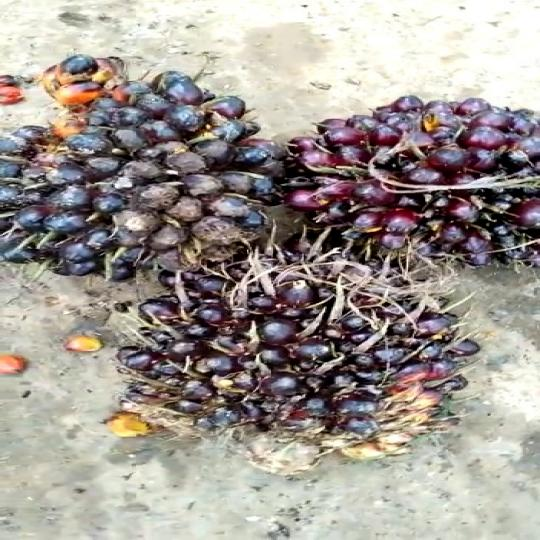kurang masak: (93, 231, 498, 473), (0, 53, 268, 302), (265, 92, 540, 282)
